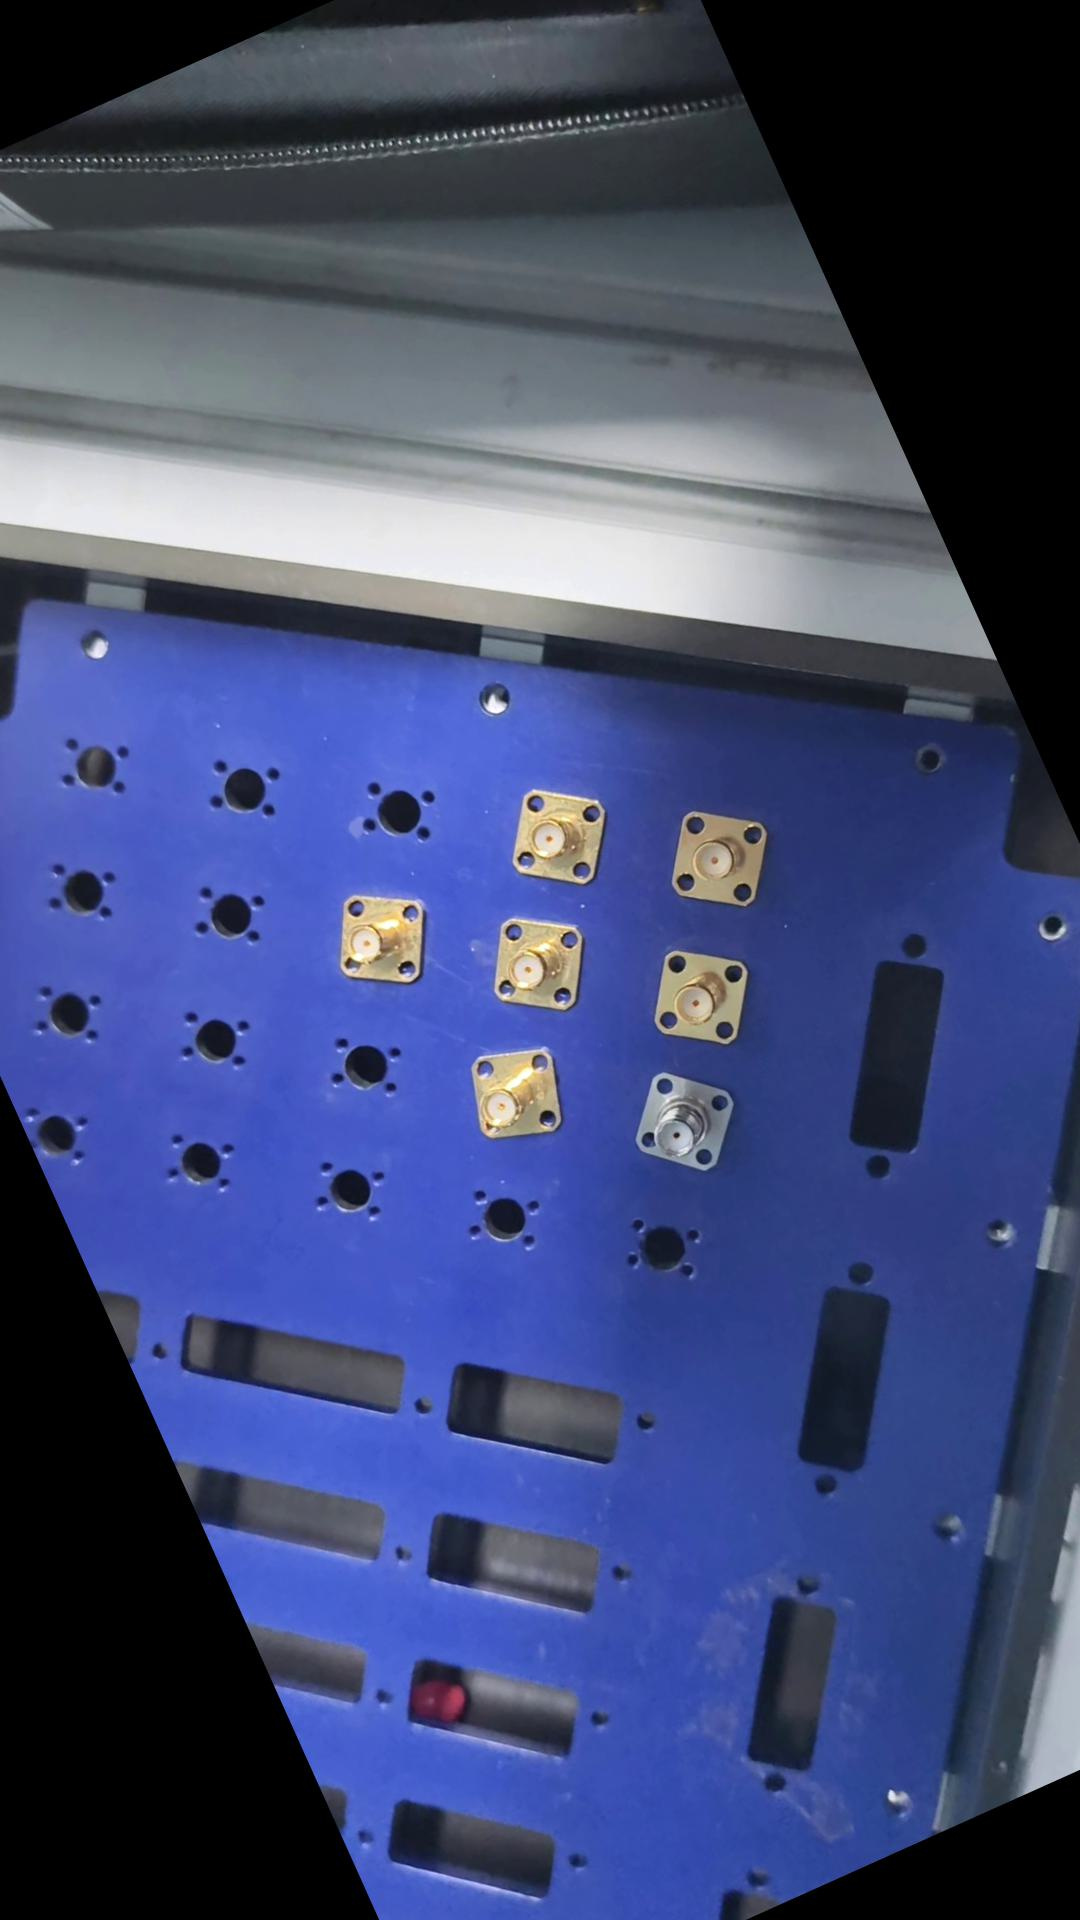SMA: (605, 1042, 757, 1199), (621, 919, 771, 1069), (481, 758, 625, 909), (647, 786, 789, 927), (436, 1033, 582, 1168), (467, 895, 605, 1034), (311, 866, 443, 1001)
